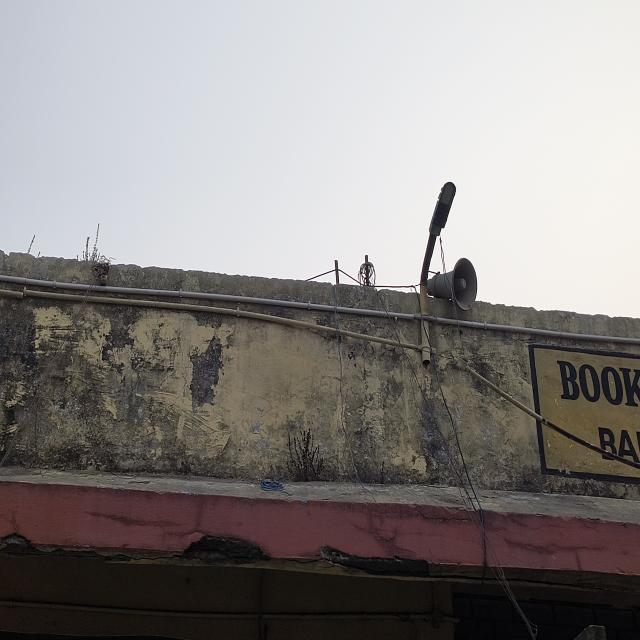Graffiti: (547, 316, 640, 487)
Moss growth due to damping: (2, 236, 640, 532), (6, 230, 541, 482)
